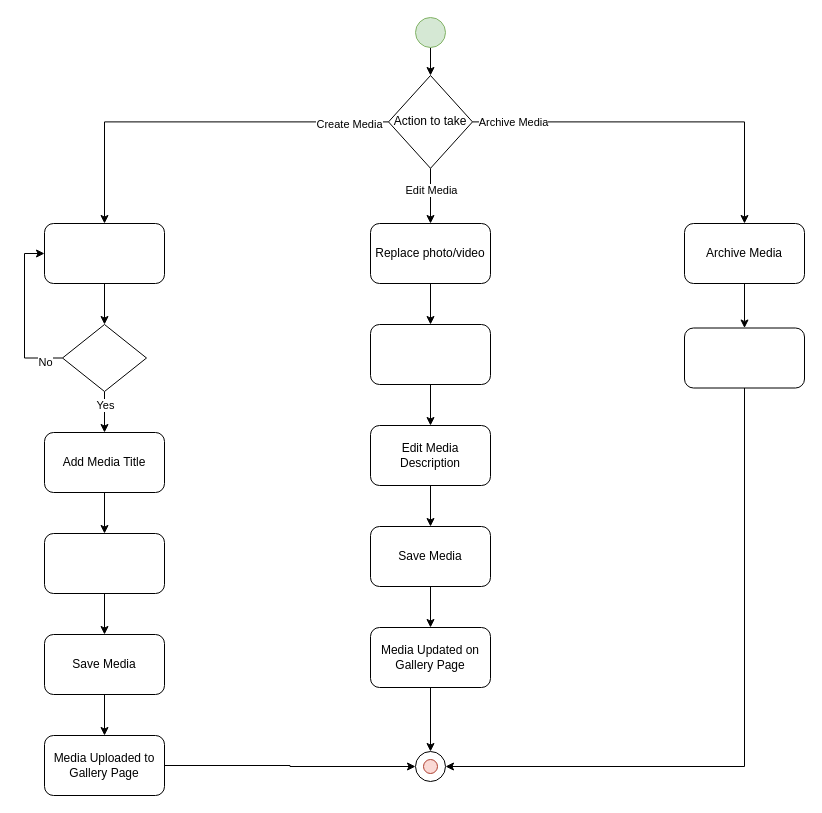
Some shapes in this 822 by 813 pixel diagram are drawn without their labels. Here are the shapes that lost their labels. From the top down, the box of each, then its label:
(44, 222, 164, 284): Upload photo/video
(62, 324, 146, 392): Is file valid?
(370, 324, 490, 384): Edit Media Title
(684, 327, 804, 388): Media Transferred to Archived Table
(44, 532, 164, 594): Add Media Description
